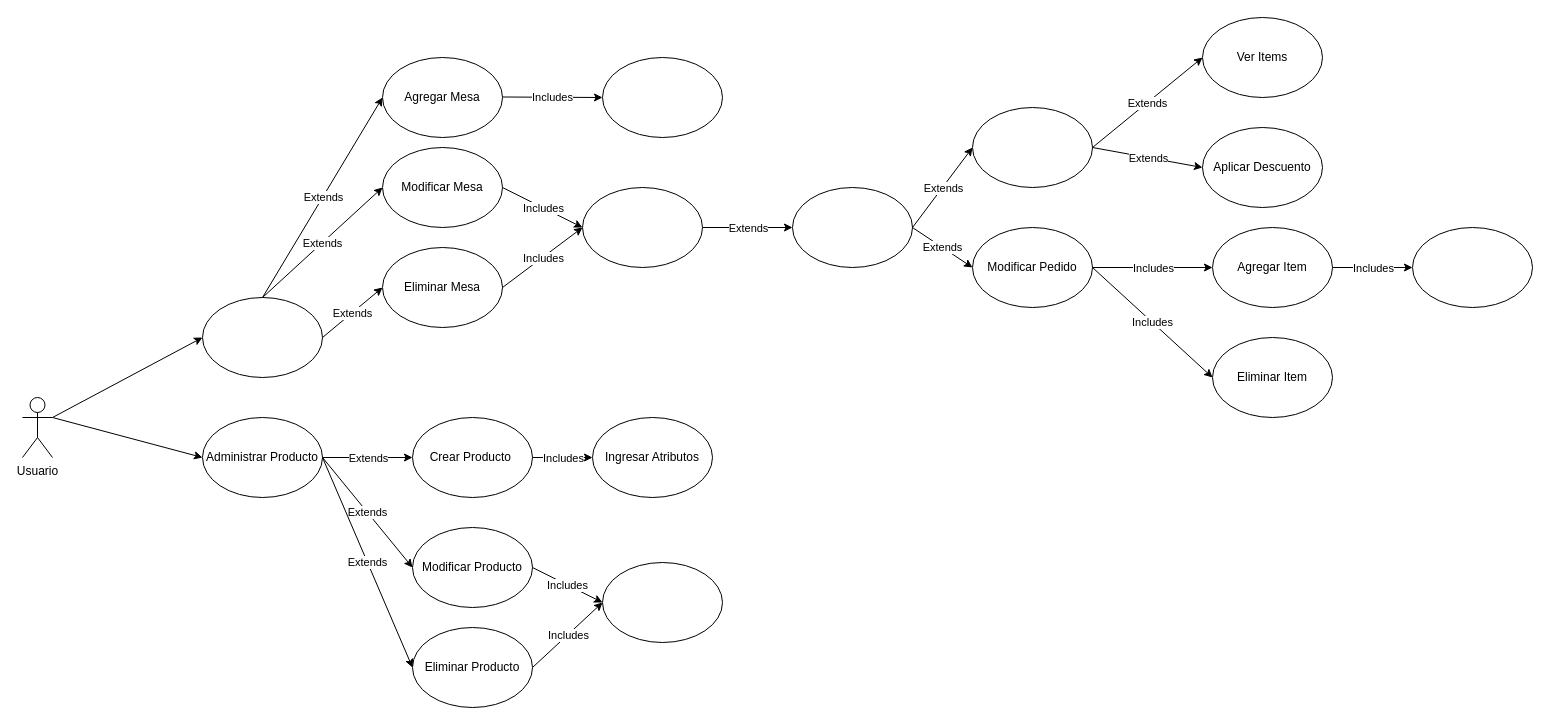
Some shapes in this 1550 by 725 pixel diagram are drawn without their labels. The centre of each missing label's shape, as x and y in pixels:
Administrar Mesa: point (262, 337)
Administrar pedido: point (852, 227)
Controlar Stock: point (1472, 267)
Crear: point (662, 97)
Seleccionar Mesa: point (642, 227)
Seleccionar Producto: point (662, 602)
Ver Pedido: point (1032, 147)
